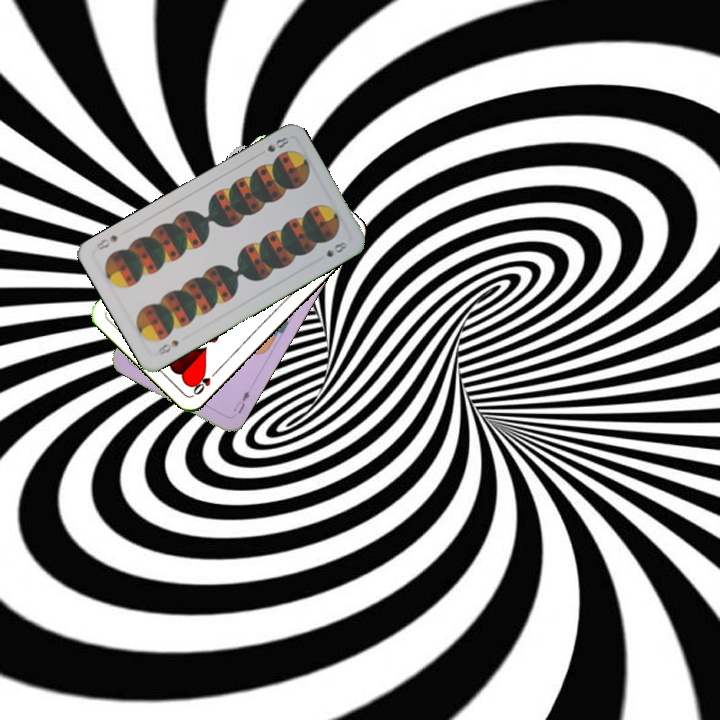EU: (229, 386, 252, 416)
HO: (189, 365, 221, 397)
S8: (154, 336, 182, 358), (263, 133, 291, 155)
